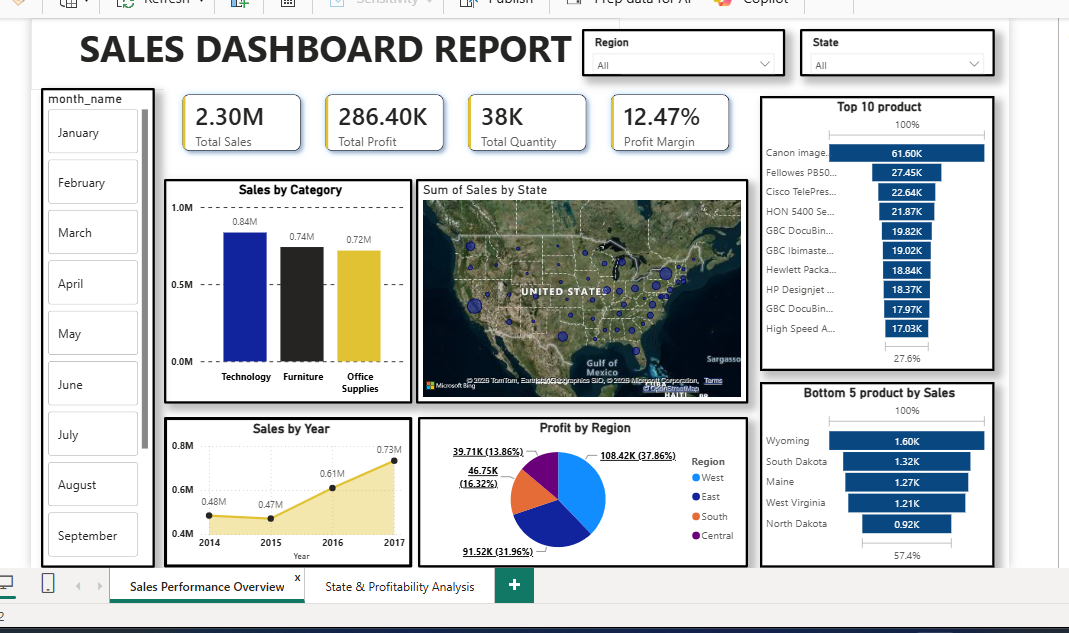

The page's visual inventory and layout, read from the dashboard file:
{"tool":"powerbi","page":{"name":"Sales Performance Overview","canvas":[1280,720],"ordinal":0},"visuals":[{"type":"textbox","box":[0,0,771.4,94.3],"z":0},{"type":"cardVisual","fields":{"Data":["Sum(Orders.Sales)","Sum(Orders.Profit)","Sum(Orders.Quantity)","Orders.Profit_margin"]},"box":[174.2,76.3,764.6,122.4],"z":1000},{"type":"columnChart","title":" Sales by Category","fields":{"Category":["Orders.Category"],"Y":["Sum(Orders.Sales)"]},"box":[174.2,210.2,325.4,293.8],"z":2000},{"type":"pieChart","title":" Profit by Region","fields":{"Category":["Orders.Region"],"Y":["Sum(Orders.Profit)"]},"box":[506.9,522.7,432,197.3],"z":3000},{"type":"map","fields":{"Category":["Orders.State"],"Size":["Sum(Orders.Sales)"]},"box":[504,210.2,434.9,293.8],"z":4000},{"type":"advancedSlicerVisual","fields":{"Values":["Orders.month_name"]},"box":[13.2,92.2,149.3,627.8],"z":5000},{"type":"lineChart","title":" Sales by Year","fields":{"Category":["Orders.Order Date.Variation.Date Hierarchy.Year","Orders.Order Date.Variation.Date Hierarchy.Quarter","Orders.Order Date.Variation.Date Hierarchy.Month","Orders.Order Date.Variation.Date Hierarchy.Day"],"Y":["Sum(Orders.Sales)"]},"box":[174.2,522.7,325.4,197.3],"z":6000},{"type":"slicer","fields":{"Values":["Orders.Region"]},"box":[721.4,14.4,266.4,61.9],"z":7000},{"type":"slicer","fields":{"Values":["Orders.State"]},"box":[1006.6,14.4,254.9,61.9],"z":8000},{"type":"funnel","title":"Top 10 product","fields":{"Category":["Orders.Product Name"],"Y":["Sum(Orders.Sales)"]},"box":[954.7,102.2,306.7,360],"z":9000},{"type":"funnel","title":"Bottom 5 product by Sales ","fields":{"Category":["Orders.State"],"Y":["Sum(Orders.Sales)"]},"box":[954.7,476.6,306.7,243.4],"z":10000}]}

Visuals, with their boxes on the page's 1280x720 design canvas (x1, y1, x2, y2). These are canvas units, not pixel positions in the 1069x633 screenshot, which may show the page scaled, cropped or inside an application window:
textbox: (0,0,771,94)
cardVisual - Sum(Orders.Sales) x Sum(Orders.Profit): (174,76,939,199)
" Sales by Category" columnChart: (174,210,500,504)
" Profit by Region" pieChart: (507,523,939,720)
map - Orders.State x Sum(Orders.Sales): (504,210,939,504)
advancedSlicerVisual - Orders.month_name: (13,92,162,720)
" Sales by Year" lineChart: (174,523,500,720)
slicer - Orders.Region: (721,14,988,76)
slicer - Orders.State: (1007,14,1262,76)
"Top 10 product" funnel: (955,102,1261,462)
"Bottom 5 product by Sales " funnel: (955,477,1261,720)
